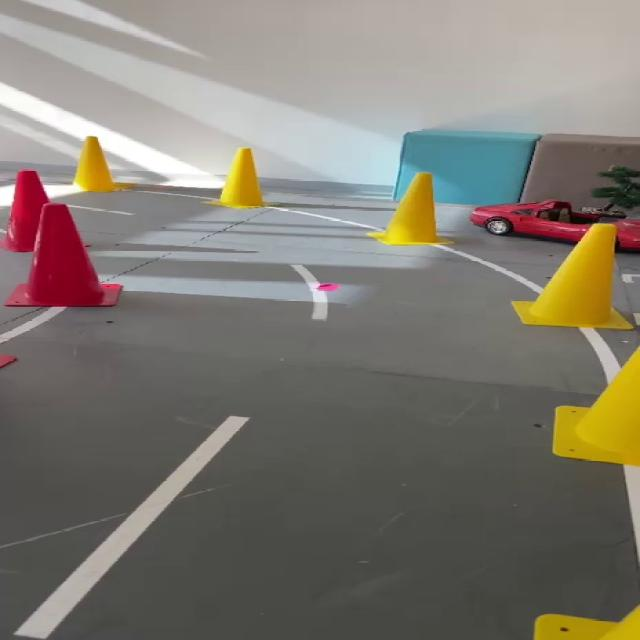Cone-red: (6, 203, 120, 306), (0, 170, 48, 252), (0, 355, 15, 368)
Cones-yellow: (513, 224, 630, 328), (554, 347, 639, 466), (368, 174, 451, 245), (534, 606, 639, 639), (73, 136, 131, 192), (211, 148, 265, 208)
